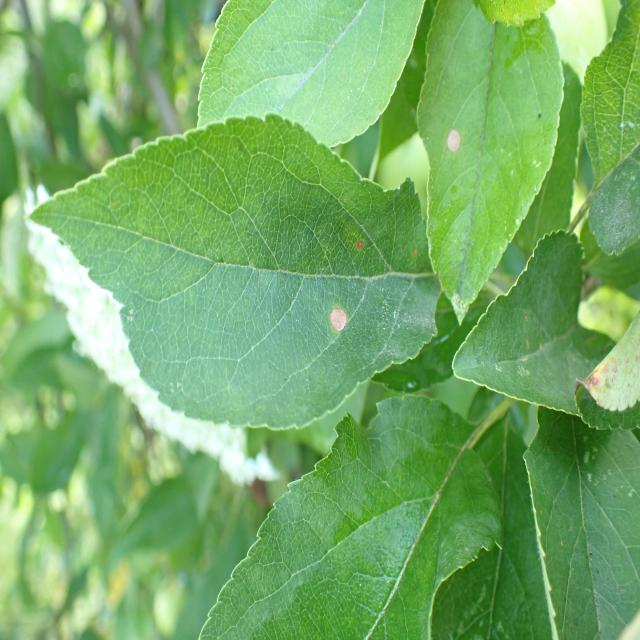frog-eye-leaf-spot: (24, 112, 442, 434), (416, 0, 565, 327)
